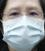with_mask: (1, 2, 45, 51)
